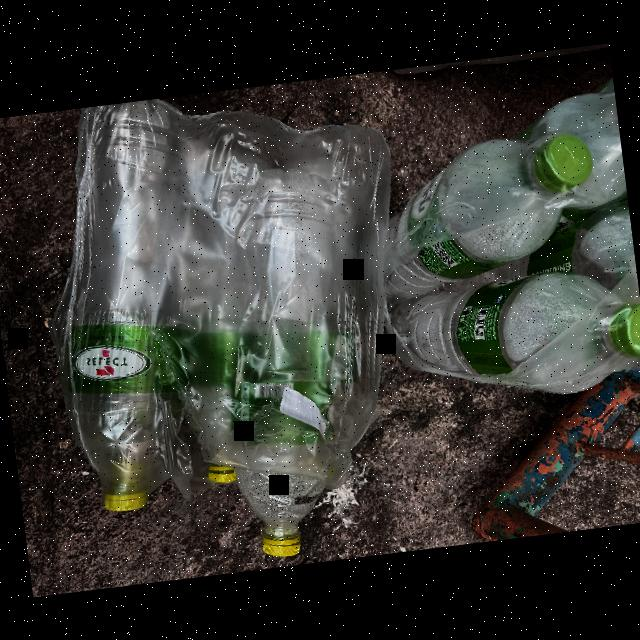plastic_bag: (28, 71, 426, 509)
plastic_bottle: (27, 96, 234, 518), (202, 175, 374, 564), (141, 134, 300, 490), (362, 123, 604, 304), (384, 268, 640, 412), (440, 208, 640, 332), (522, 90, 627, 214)
plastic_bottle_cap: (530, 133, 593, 195), (604, 299, 640, 362), (258, 524, 302, 561), (99, 483, 153, 513), (205, 461, 237, 485)
